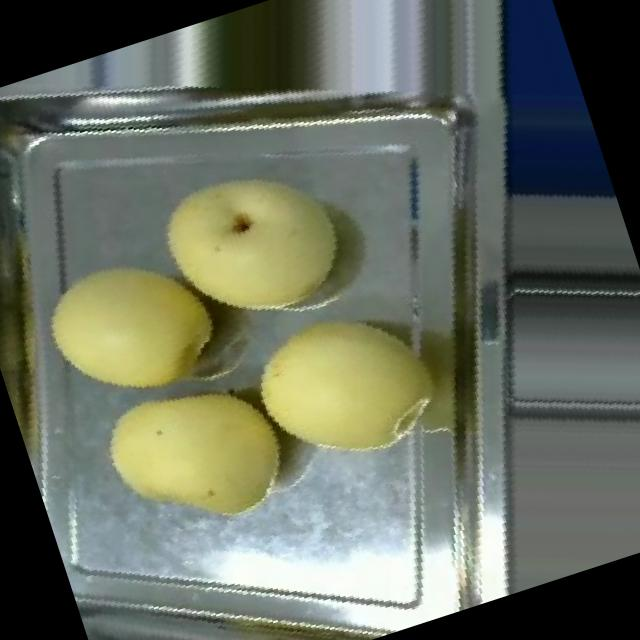Fruit: (119, 115, 390, 370), (212, 259, 479, 516), (68, 341, 319, 574), (5, 212, 253, 441)
